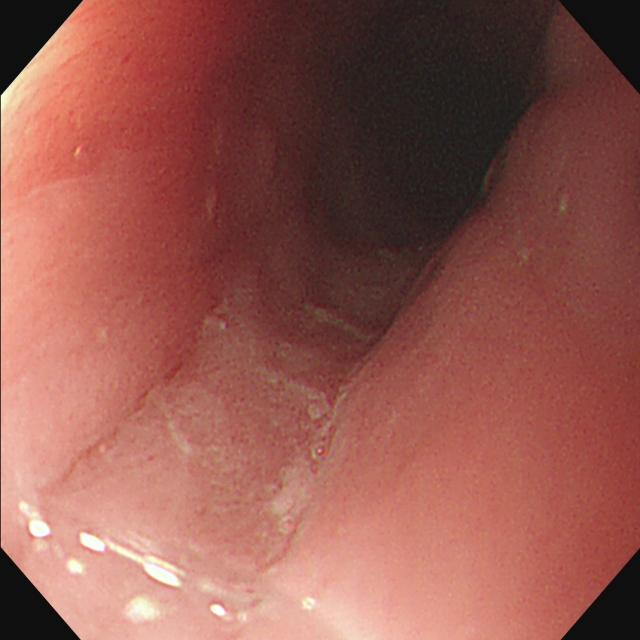E: (277, 14, 561, 274)
J: (262, 366, 335, 544)
U: (78, 532, 184, 589), (21, 507, 55, 544), (64, 556, 88, 579), (210, 603, 229, 621)
